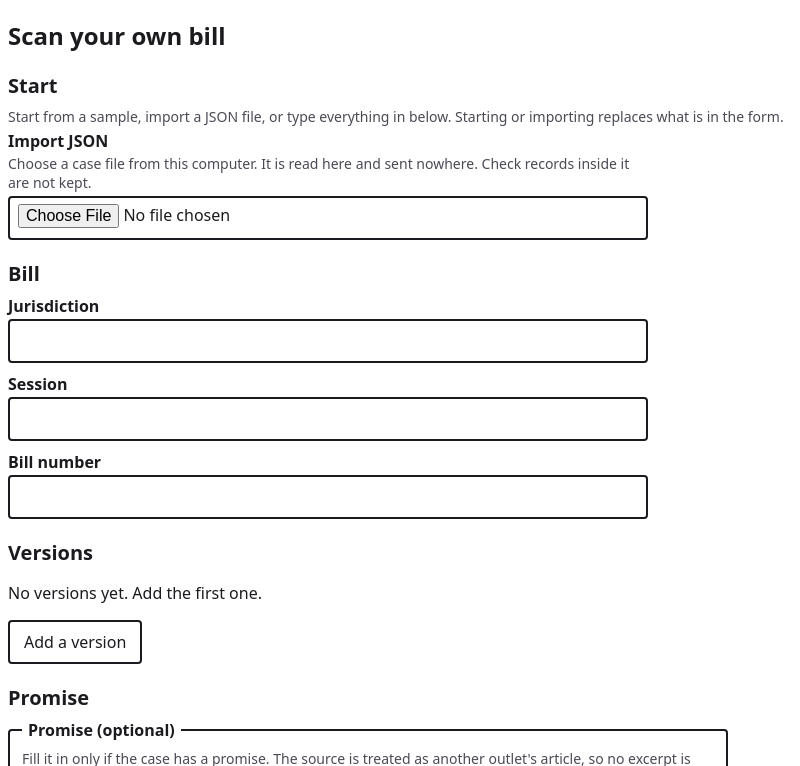
Test: the form › shows a broken source link's block message next to its field and keeps the version out of the scan
Click the button "Add a version" at (75, 642), box [8,620,142,664]
(page scrolled)
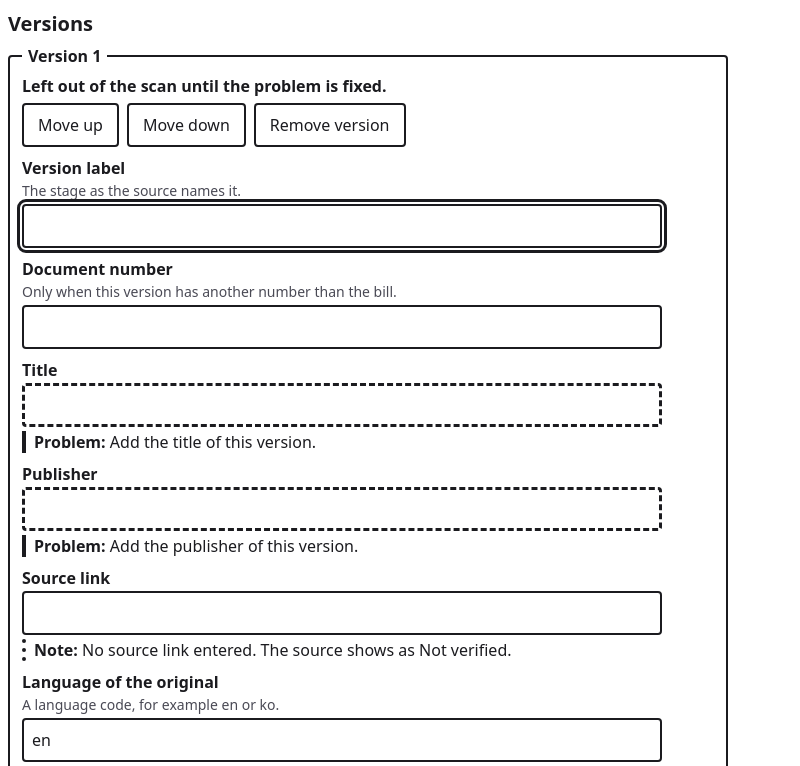
Type "Synthetic title" into the field labelled "Title" at (342, 405), box [22,383,662,427]
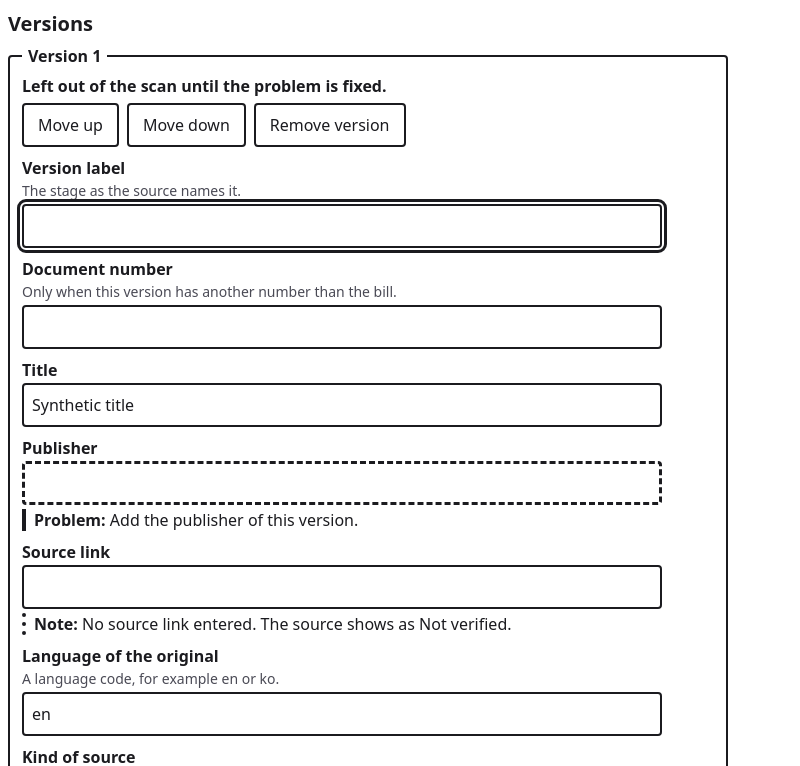
Type "Synthetic publisher" into the field labelled "Publisher" at (342, 483), box [22,461,662,505]
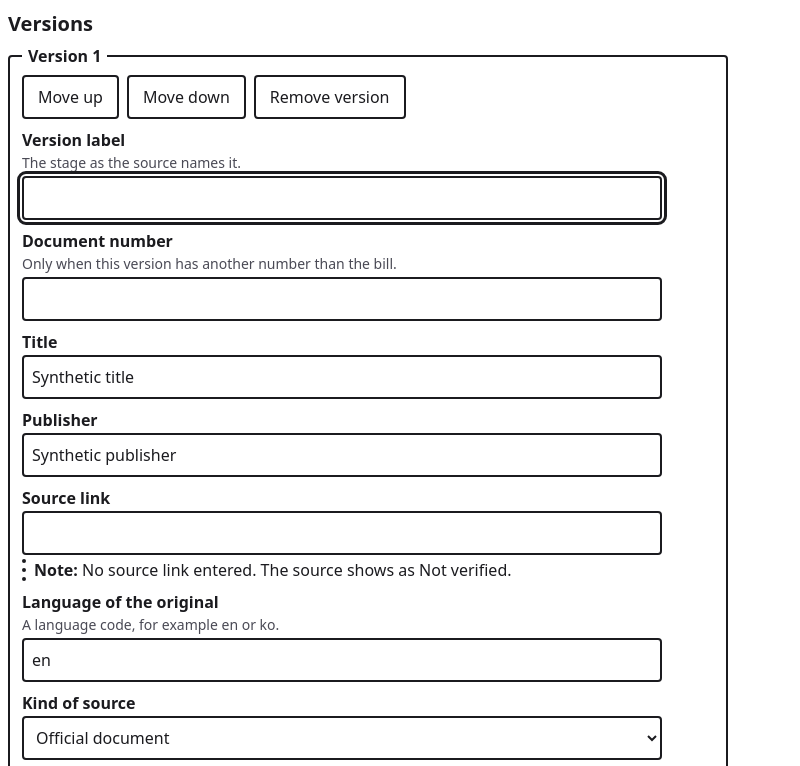
Type "not a link" into the field labelled "Source link" at (342, 533), box [22,511,662,555]
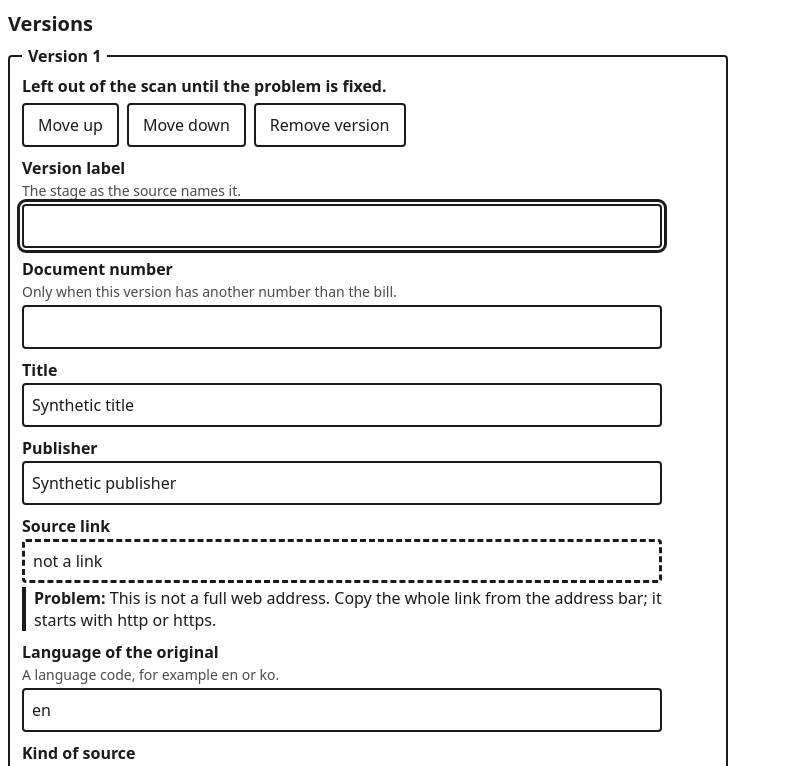
Result: the element labelled "Source link" shows "This is not a full web address. Copy the whole link from the address bar; it starts with http or https." at [34,587,662,631]
Result: the text "Left out of the scan until the problem is fixed." is shown at [22,75,387,97]
Replace the text in the field labelled "Source link" with "https://example.org/a" at (342, 561), box [22,539,662,583]
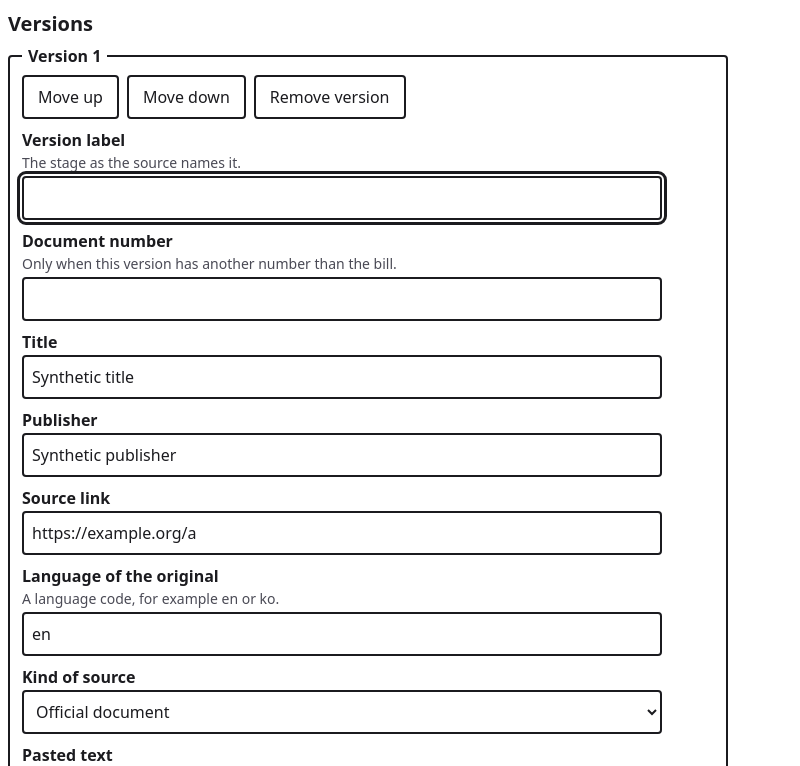
Result: the text "Left out of the scan until the problem is fixed." is gone
